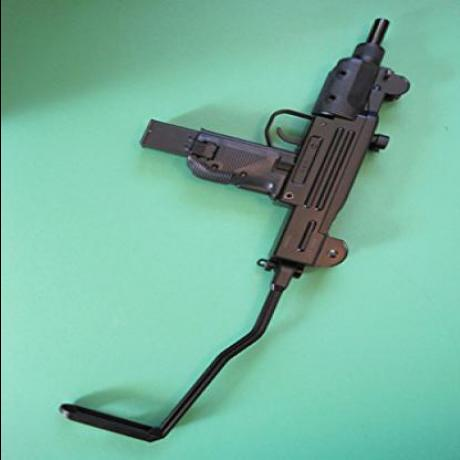weapon: (51, 11, 426, 442)
